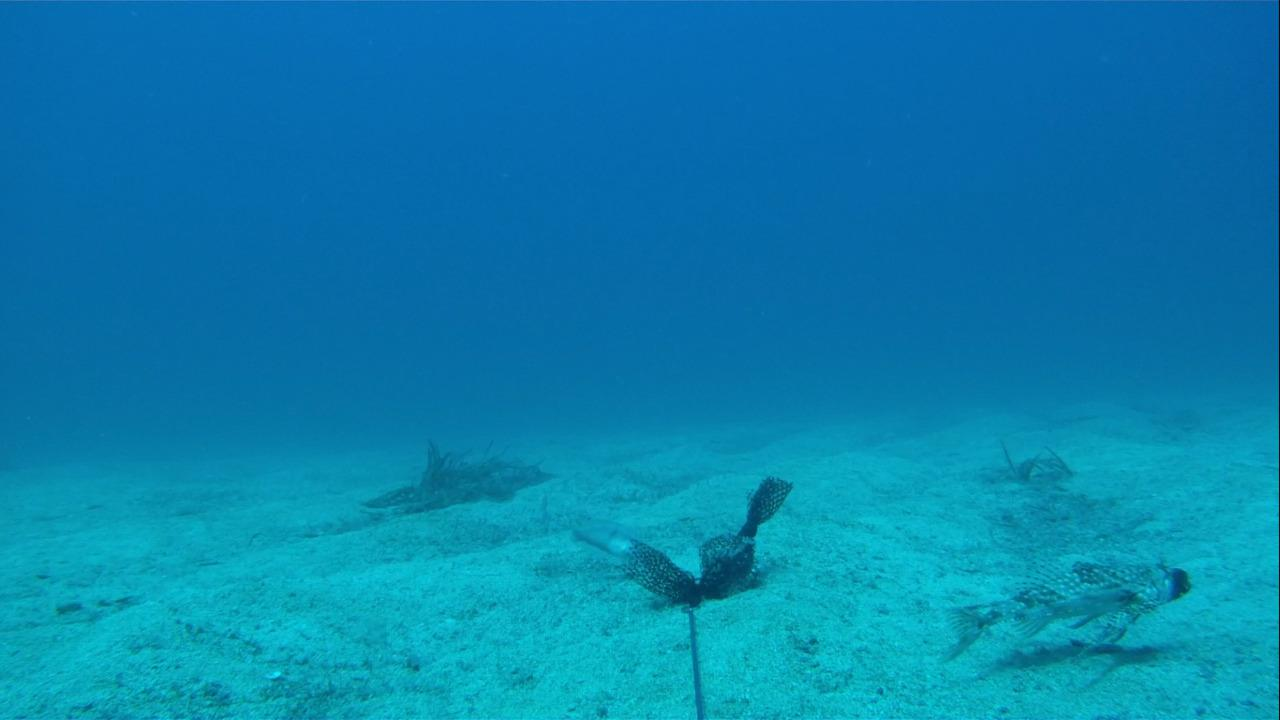dactylopterus: (933, 560, 1192, 656)
raor: (562, 519, 630, 558)
